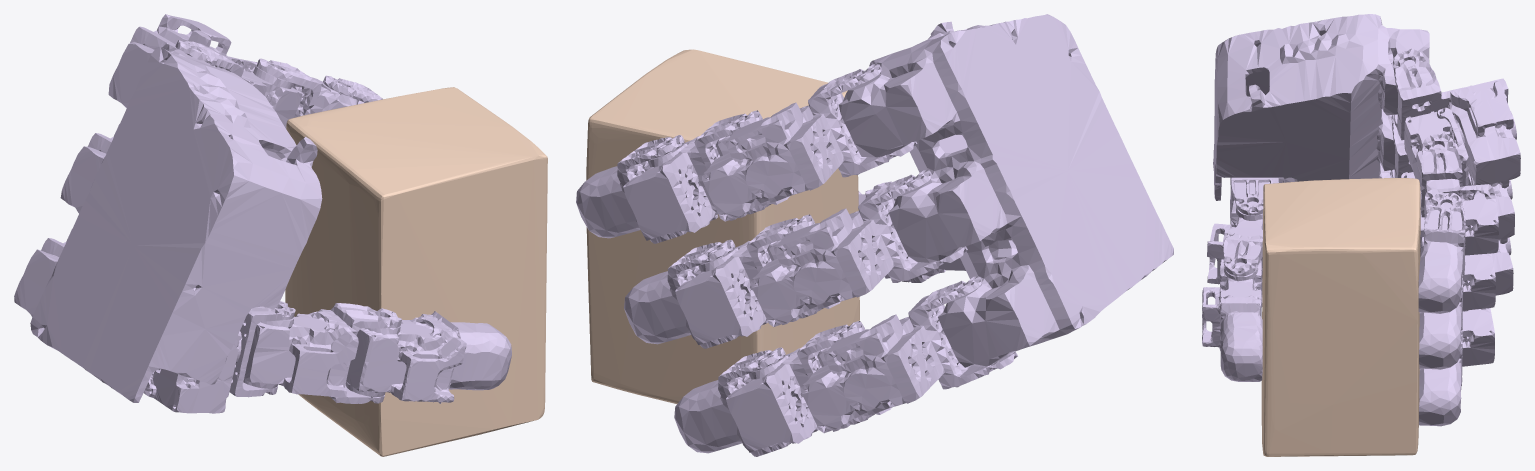
The model's file is e1d16bdd8b2a37-closed.glb.
3 renders of one model, left to right at view 1: azimuth 30°, elevation 25°; view 2: azimuth 150°, elevation 25°; view 3: azimuth 270°, elevation 25°, orthographic. The views are drawn at different scales.
Parts seen in each view (by area): view 1: LEAP_hand, world; view 2: LEAP_hand, world; view 3: LEAP_hand, world.
Part boxes in pixels (x1,y1,x2,y2): LEAP_hand: (14, 14, 511, 413); world: (285, 87, 547, 456); LEAP_hand: (576, 14, 1173, 456); world: (586, 49, 859, 403); LEAP_hand: (1202, 14, 1520, 426); world: (1261, 178, 1420, 456).
Bounding box in the file's own units: 0.2045 × 0.1795 × 0.1544.
